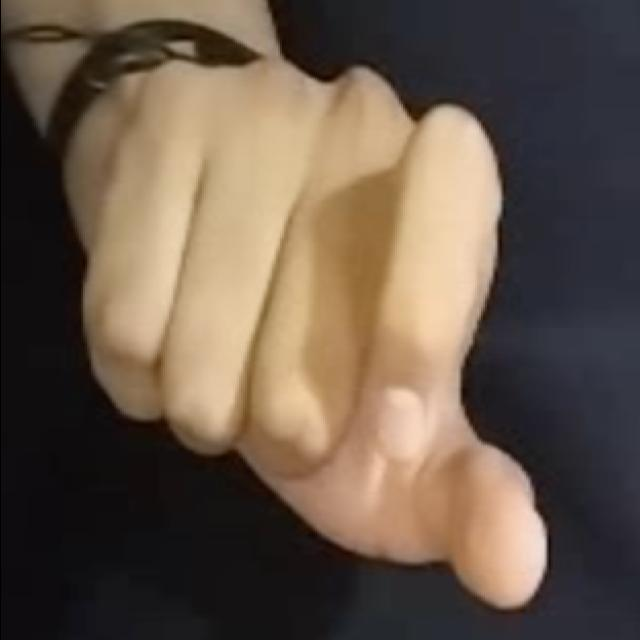Q: (39, 49, 612, 618)
